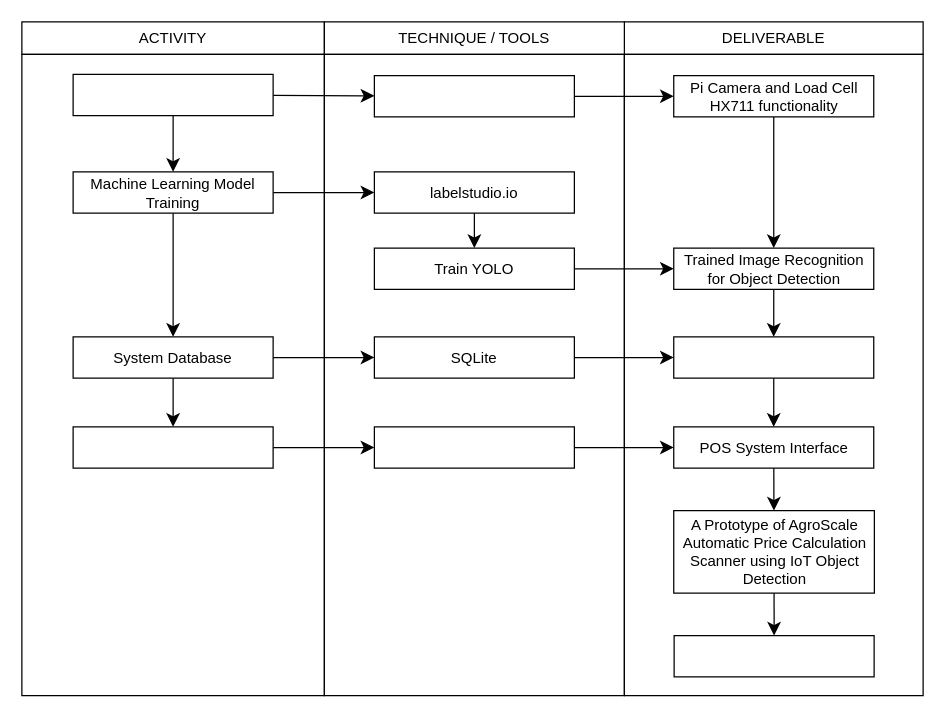
Image size: 945x718. Some labels were removed from this diagram. Each missing label, with the centre of its shape:
"Code for Raspbian OS and Load cell HX711" goes at [473,95].
"Component Device Setup" goes at [172,94].
"Database for storing data related to POS system" goes at [773,357].
"Objective 2 is archieved" goes at [773,655].
"Python, HTML, SQL" goes at [473,447].
"System Interface" goes at [172,447].
